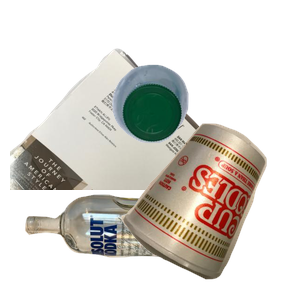glass: (22, 192, 234, 300)
paper: (10, 46, 250, 226)
plastic: (110, 62, 300, 198)
trash: (119, 121, 300, 300)
